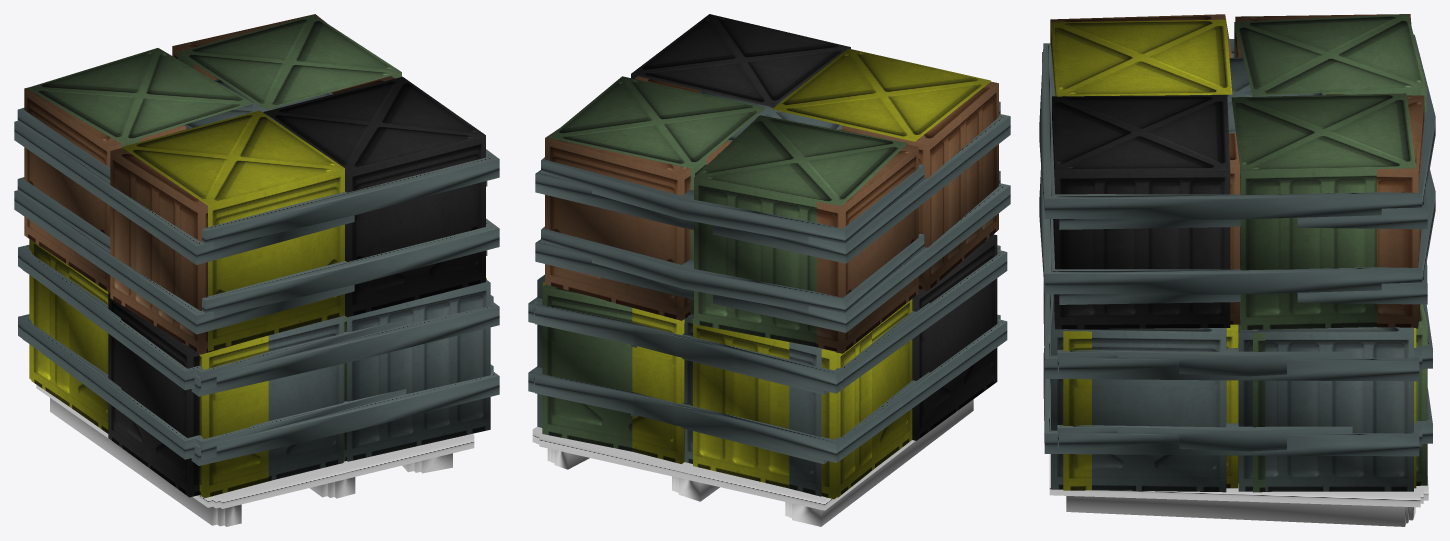
The model's file is metal_crate_bundle_01.fbx.
3 views of the same model, side by side, from view 1: azimuth 30°, elevation 25°; view 2: azimuth 150°, elevation 25°; view 3: azimuth 270°, elevation 25° (orthographic). The views are drawn at different scales.
Visible parts, largest first — view 1: Mesh (2), Mesh, Mesh (3); view 2: Mesh, Mesh (2), Mesh (3); view 3: Mesh (2), Mesh, Mesh (3).
Part boxes in pixels (left/top/right/bottom): Mesh (2): left=17, top=14, right=499, bottom=526; Mesh: left=14, top=14, right=487, bottom=525; Mesh (3): left=22, top=79, right=493, bottom=526; Mesh: left=535, top=76, right=1010, bottom=526; Mesh (2): left=528, top=14, right=1000, bottom=516; Mesh (3): left=534, top=85, right=1000, bottom=517; Mesh (2): left=1039, top=14, right=1435, bottom=526; Mesh: left=1042, top=14, right=1432, bottom=520; Mesh (3): left=1053, top=57, right=1423, bottom=523.
Size of the model in its own units: 114 by 112 by 113.
